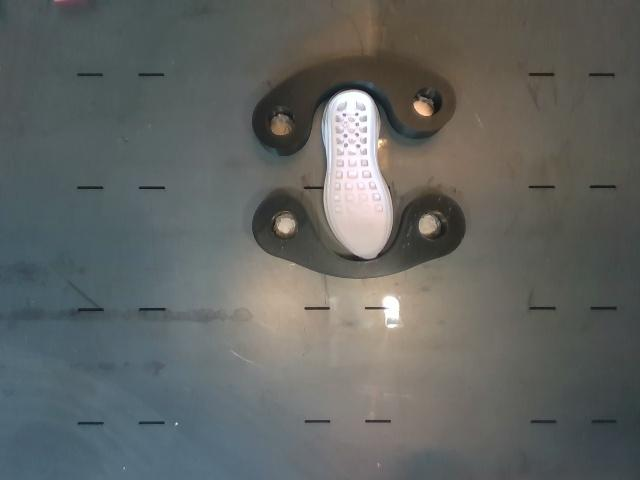shoes: (330, 92, 391, 258)
